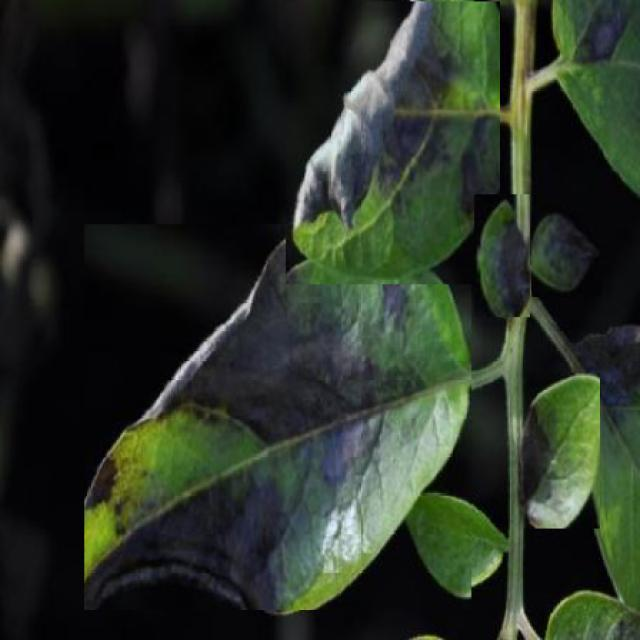Late Blight: (84, 225, 472, 611), (286, 2, 500, 284), (519, 373, 600, 528), (474, 194, 530, 317), (531, 212, 603, 298)
